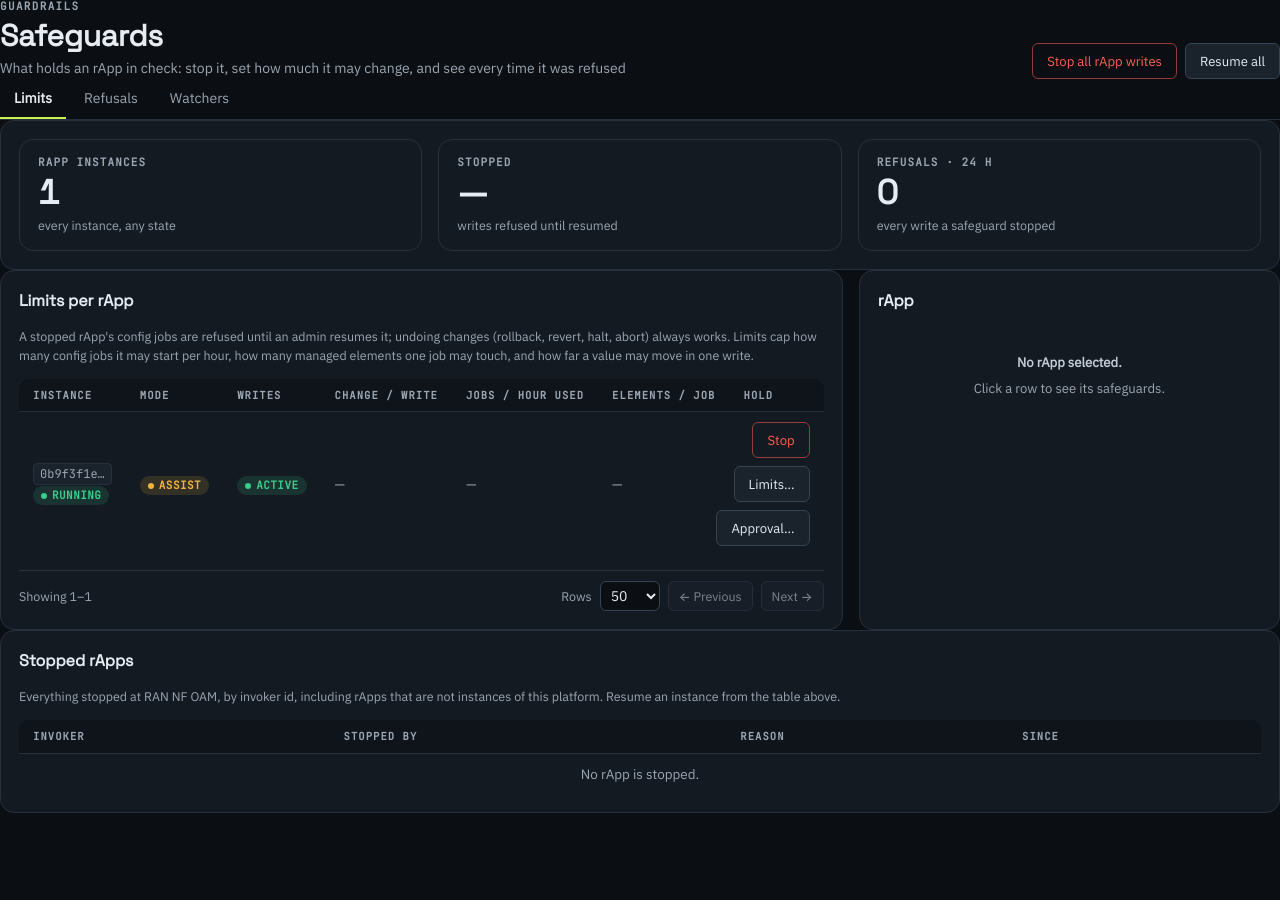
stopping every rApp at once › resumes all for an admin
What coordinates should you click on to do the following:
click the button "Resume all"
I would click on:
 (1232, 61)
Its box is [1185, 43, 1279, 79].
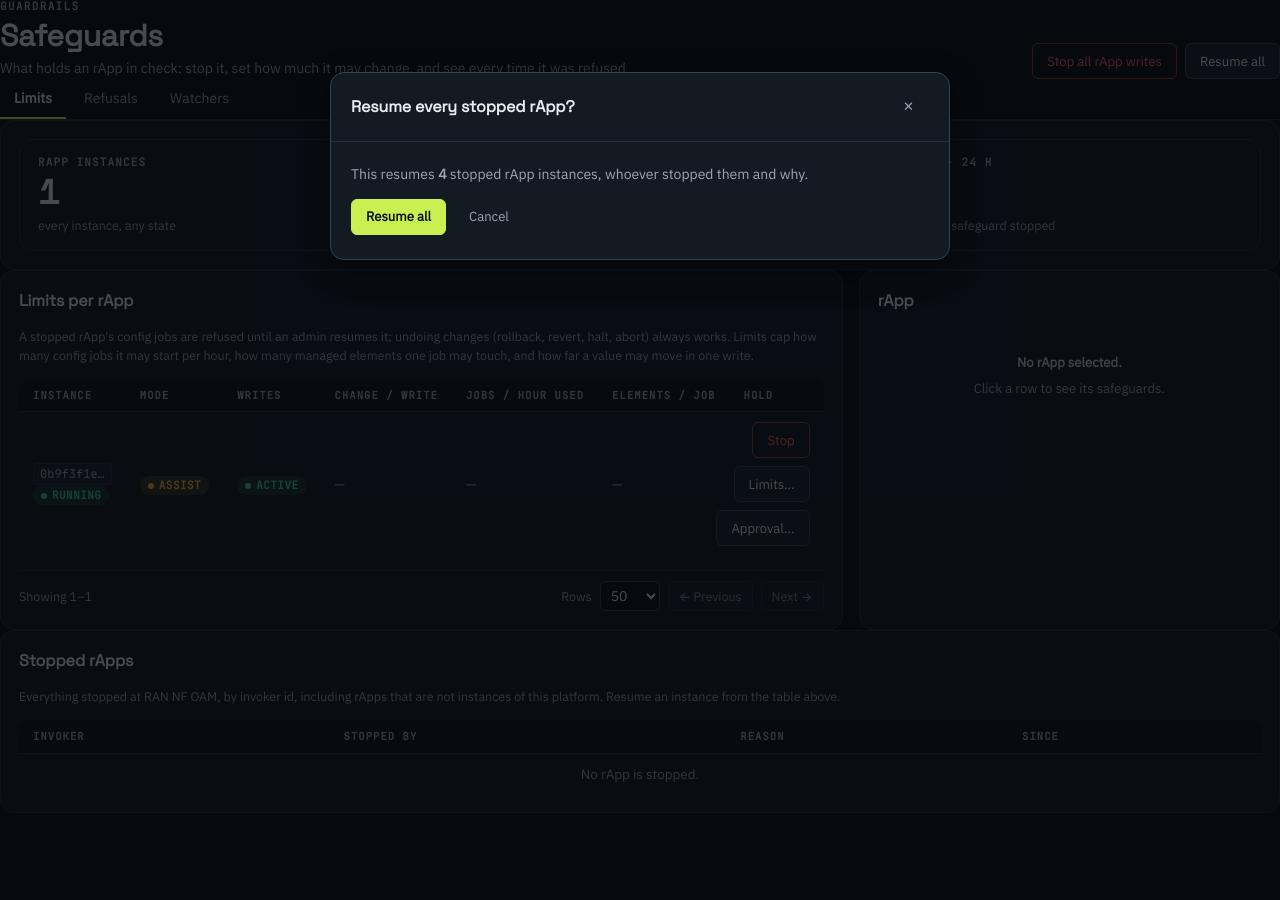
Check: the dialog shows "resumes 4 stopped rApp instances", box [330, 72, 950, 260]
What coordinates should you click on to do the following:
click the button "Resume all"
I would click on:
 (398, 217)
Its box is [351, 199, 446, 235].
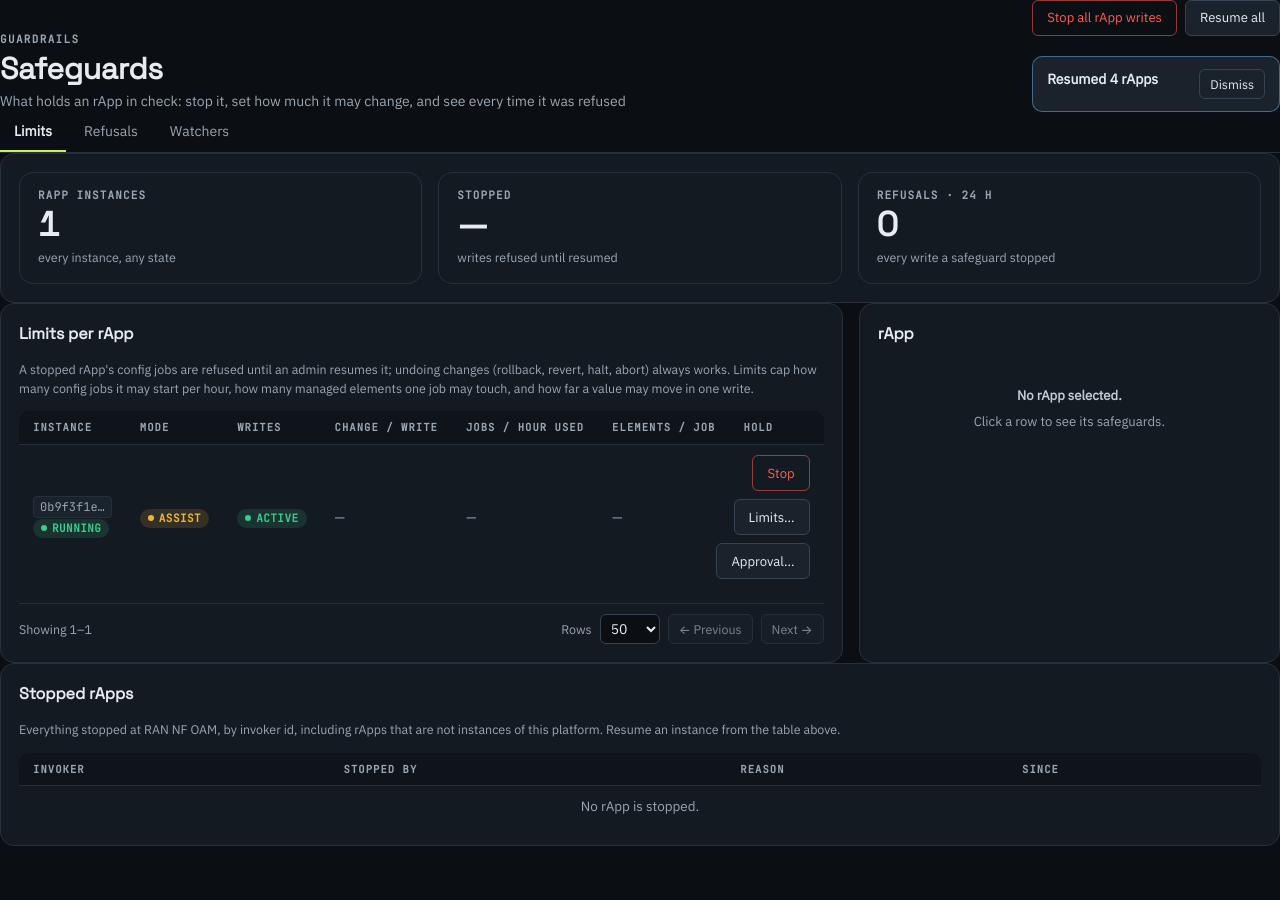
Check: the element showing "Stop all rApp writes Resume all Resumed 4 rApps Dismiss" is shown, box [1032, 0, 1279, 112]
